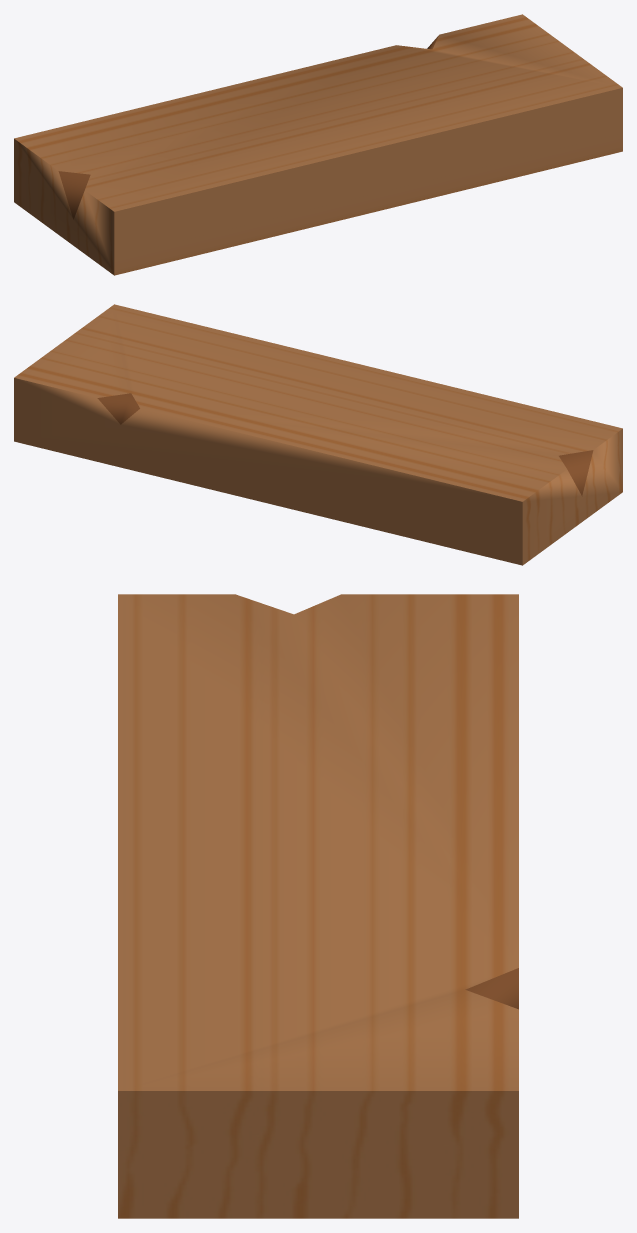
File: BridgeWood.fbx
3 renders of one model, top to bottom at view 1: azimuth 30°, elevation 25°; view 2: azimuth 150°, elevation 25°; view 3: azimuth 270°, elevation 25°, orthographic. The views are drawn at different scales.
Visible parts, largest first — view 1: BridgeWood; view 2: BridgeWood; view 3: BridgeWood.
Boxes of the visible parts, x1,y1,x2,y2 form: BridgeWood: [14, 14, 622, 275]; BridgeWood: [14, 304, 622, 565]; BridgeWood: [118, 594, 518, 1218].
Bounding box in the file's own units: 178 × 21.38 × 60.96.
1 material, 1 textured.
